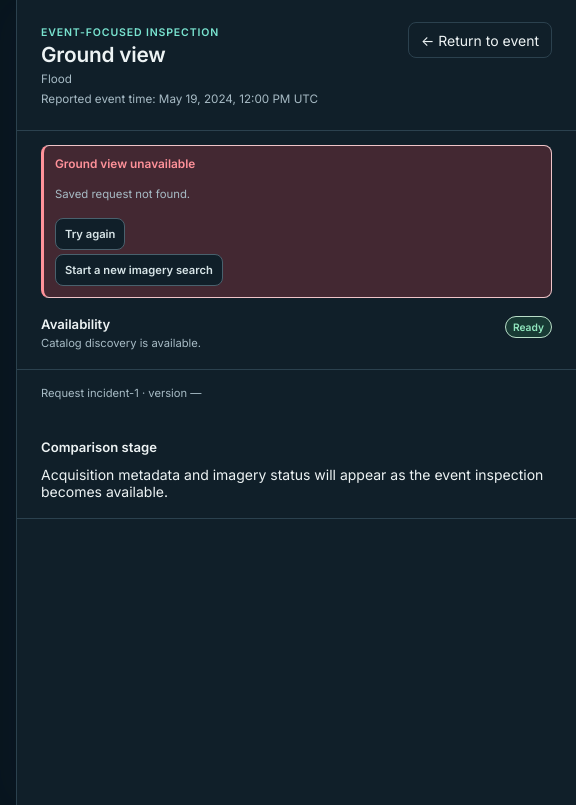
Test: starts fresh only after the user explicitly replaces a failed saved request
Expected: the message is shown, [41,145,552,298]
Click the button "Start a new imagery search".
click(139, 270)  # box [55,254,223,286]
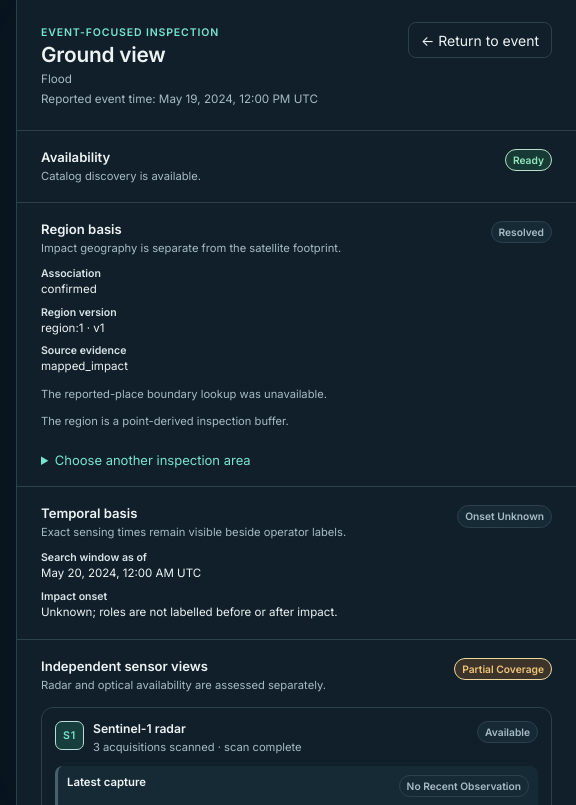
Result: the heading "Region basis" is shown at [41,221,122,237]
